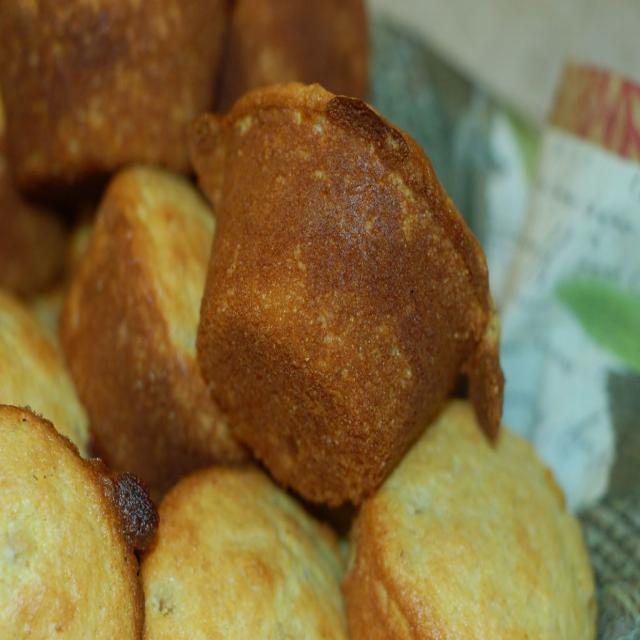Bread: (0, 0, 600, 639)
